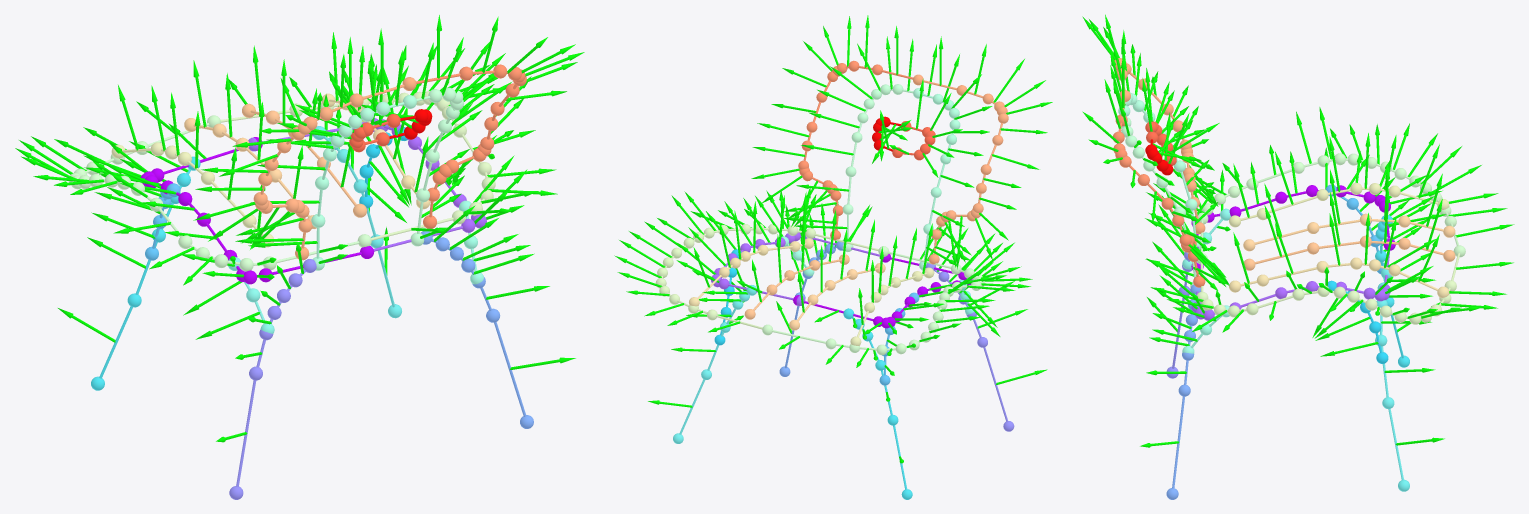
The model's file is author1_chair.gltf.
3 views of the same model, side by side, from view 1: azimuth 30°, elevation 25°; view 2: azimuth 150°, elevation 25°; view 3: azimuth 270°, elevation 25° (orthographic). The views are drawn at different scales.
Bounding box in the file's own units: 0.7448 × 0.7194 × 0.7107.
